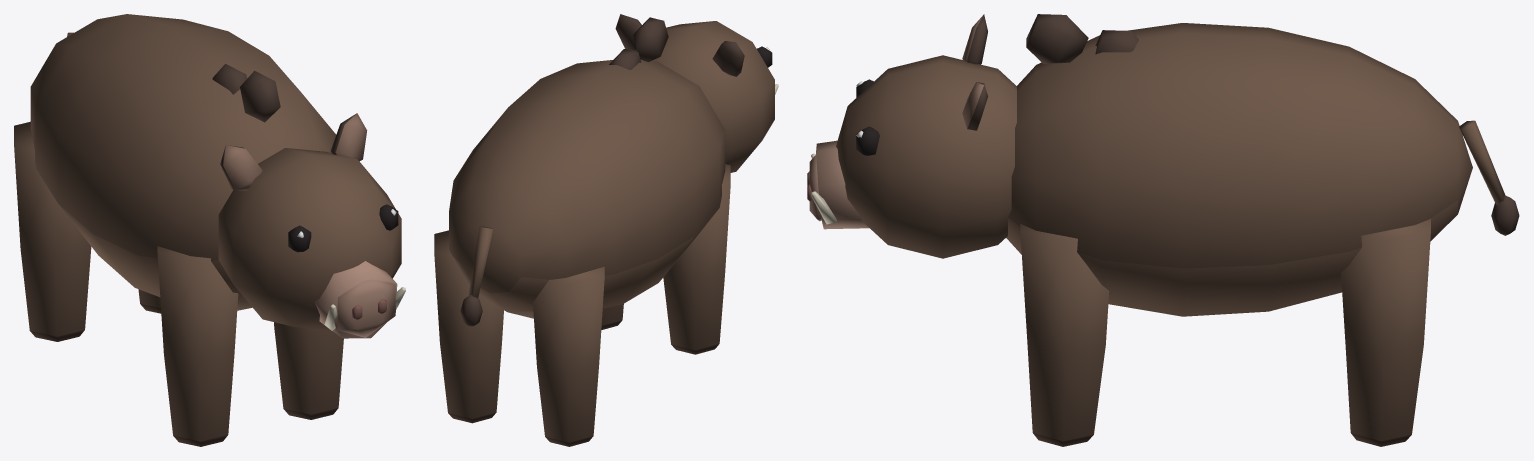
The model's file is boar.glb.
3 renders of one model, left to right at view 1: azimuth 30°, elevation 25°; view 2: azimuth 150°, elevation 25°; view 3: azimuth 270°, elevation 25°, orthographic. The views are drawn at different scales.
Visible parts, largest first — view 1: body, head, leg_fr, leg_br, leg_fl, head_body_nh, leg_bl; view 2: body, leg_br, head, leg_bl, leg_fr, tail, leg_fl; view 3: body, head, leg_bl, leg_fl, tail, head_body_nh.
Part boxes in pixels (x1,y1,x2,y2): body: [30, 14, 335, 310]; head: [218, 113, 405, 338]; leg_fr: [157, 246, 238, 446]; leg_br: [14, 121, 91, 341]; leg_fl: [274, 322, 343, 419]; head_body_nh: [288, 204, 398, 320]; leg_bl: [138, 289, 161, 313]; body: [449, 17, 725, 318]; leg_br: [533, 266, 604, 446]; head: [615, 14, 778, 172]; leg_bl: [434, 230, 503, 423]; leg_fr: [663, 164, 730, 354]; tail: [460, 226, 493, 326]; leg_fl: [601, 304, 623, 329]; body: [1006, 14, 1472, 316]; head: [809, 14, 1016, 258]; leg_bl: [1341, 219, 1430, 446]; leg_fl: [1020, 224, 1109, 446]; tail: [1459, 120, 1519, 235]; head_body_nh: [807, 79, 879, 201].
Bounding box in the file's own units: 0.4736 × 0.7412 × 1.21.
